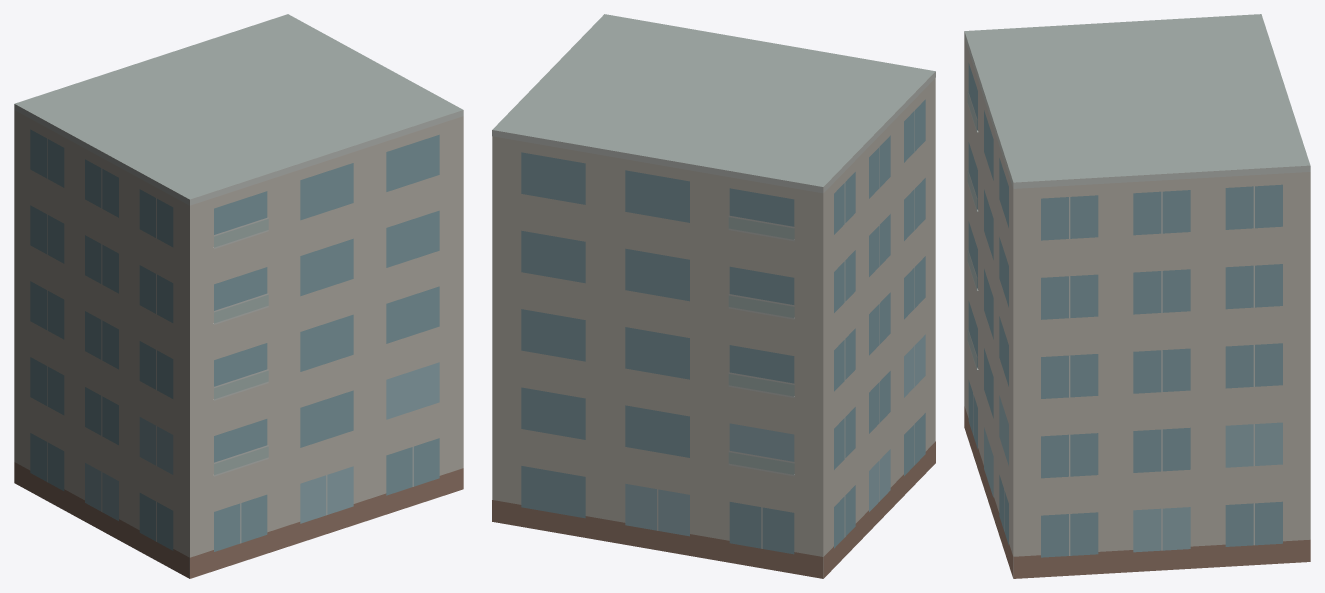
File: survey-upis-32532705.glb
3 views of the same model, side by side, from view 1: azimuth 30°, elevation 25°; view 2: azimuth 150°, elevation 25°; view 3: azimuth 270°, elevation 25° (orthographic). The views are drawn at different scales.
Parts seen in each view (by area): view 1: survey-upis-32532705.tmp; view 2: survey-upis-32532705.tmp; view 3: survey-upis-32532705.tmp.
Part boxes in pixels (x1,y1,x2,y2): survey-upis-32532705.tmp: (14, 14, 463, 578); survey-upis-32532705.tmp: (492, 14, 935, 578); survey-upis-32532705.tmp: (964, 14, 1310, 578).
Size of the model in its own units: 13.79 by 15.1 by 11.96.
